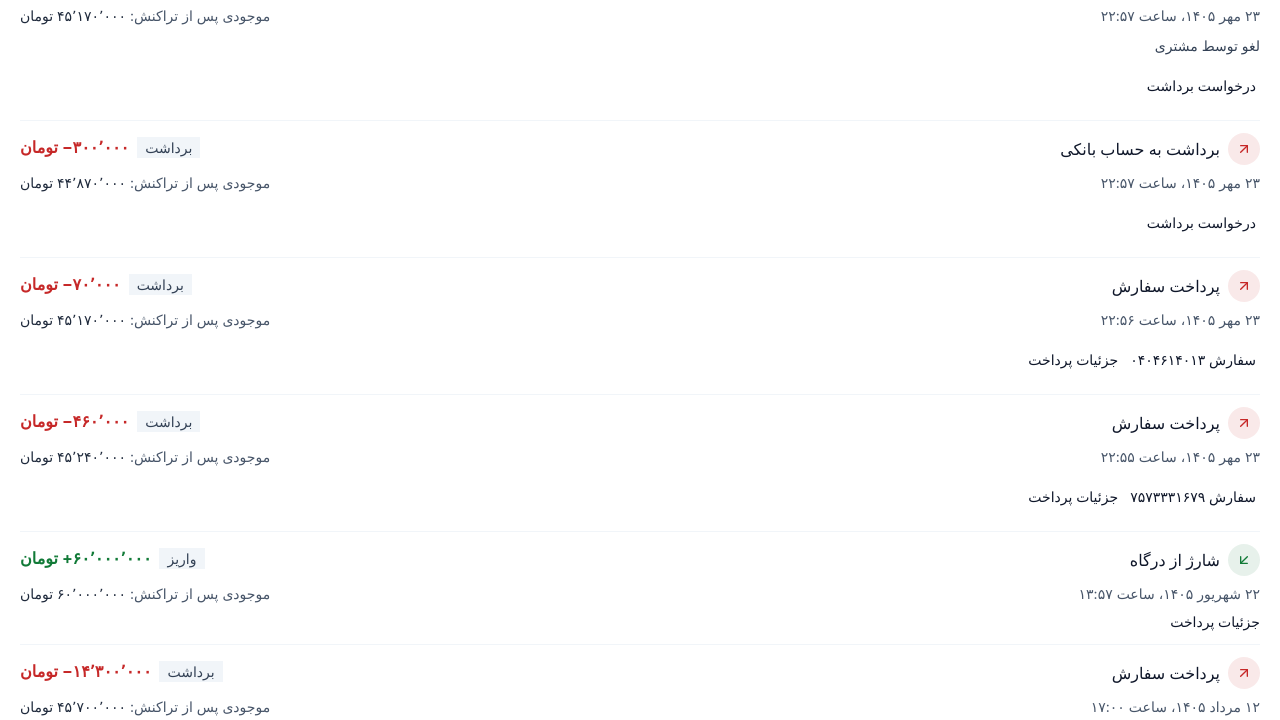
it: the page › a payment’s detail opens in a sheet from a ledger row
The width and height of the screenshot is (1280, 720).
(page scrolled)
Click the button "جزئیات پرداخت" next to "سفارش ۰۴۰۴۶۱۴۰۱۳". click: [1073, 360]
box: [1028,350,1118,370]
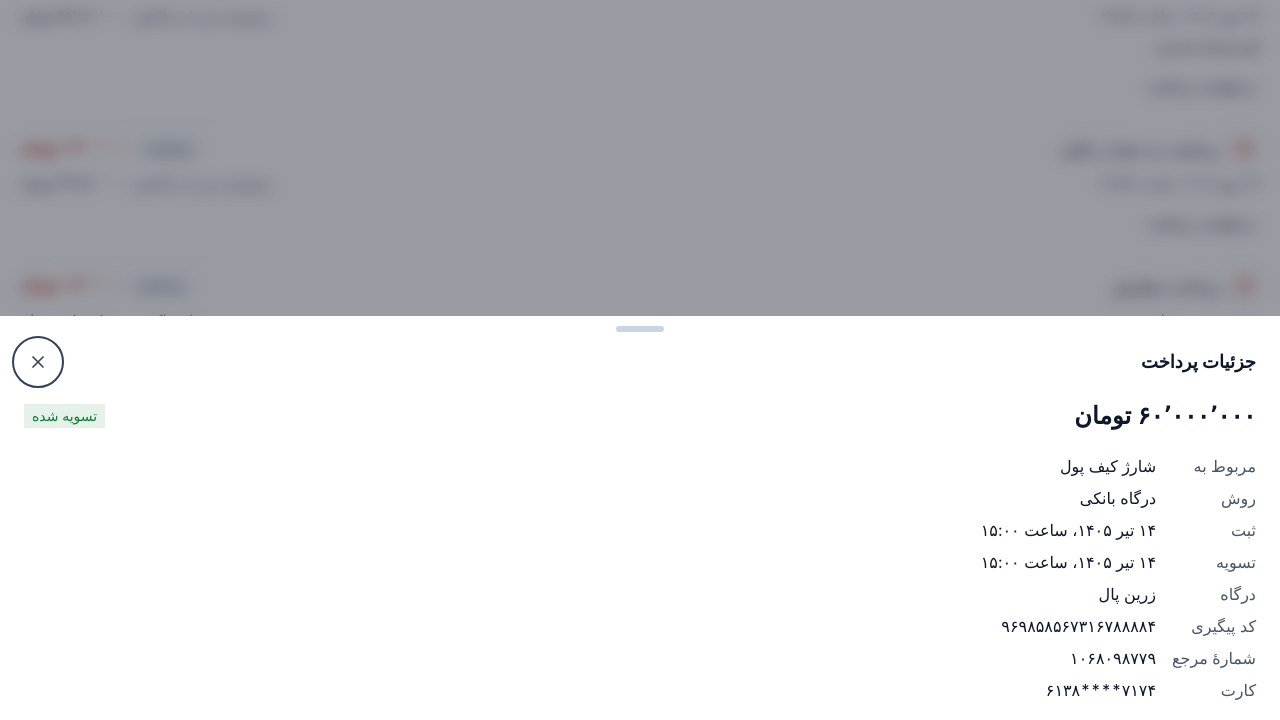
expect the text "شارژ کیف پول" is shown: met, box [1060,456,1156,476]
